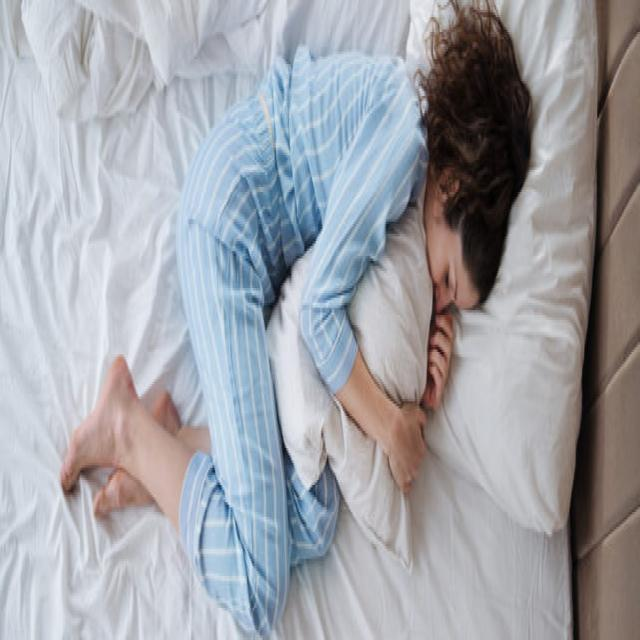people: (55, 5, 535, 640)
